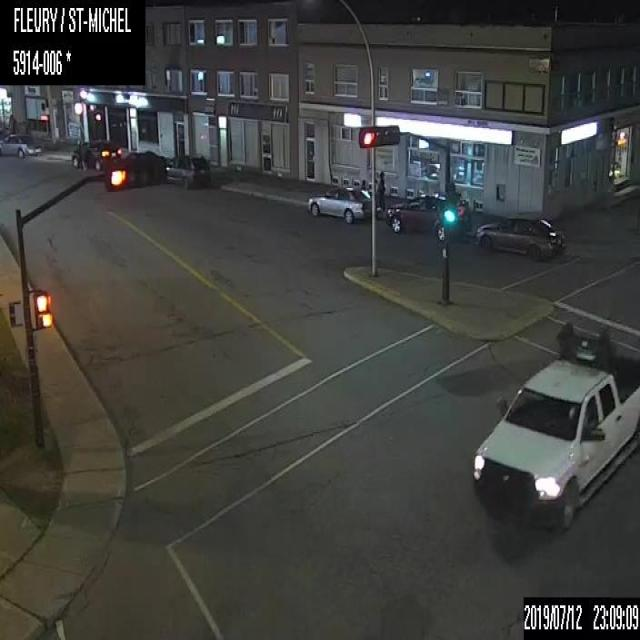pedestrian: (374, 166, 386, 215)
vehicle: (471, 322, 639, 534), (476, 212, 564, 263), (386, 189, 463, 240), (306, 186, 371, 222), (71, 137, 122, 171), (165, 153, 210, 188), (0, 132, 39, 160)
